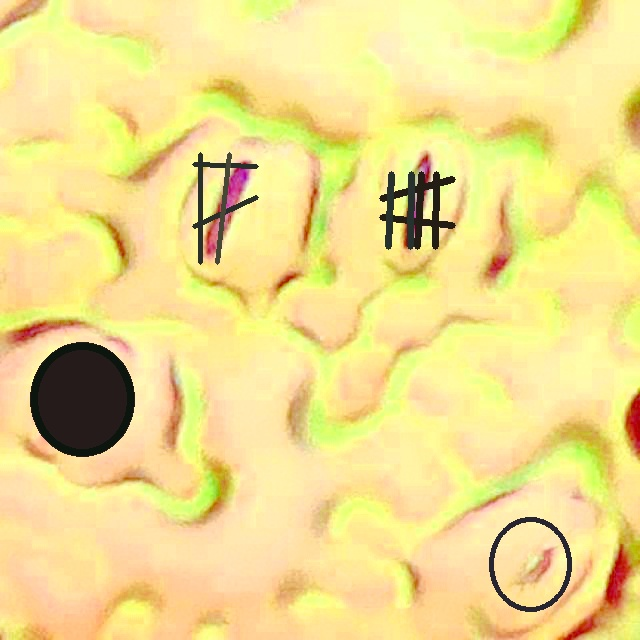open: (31, 342, 134, 456), (488, 517, 572, 611), (192, 153, 258, 264), (380, 171, 454, 249)
